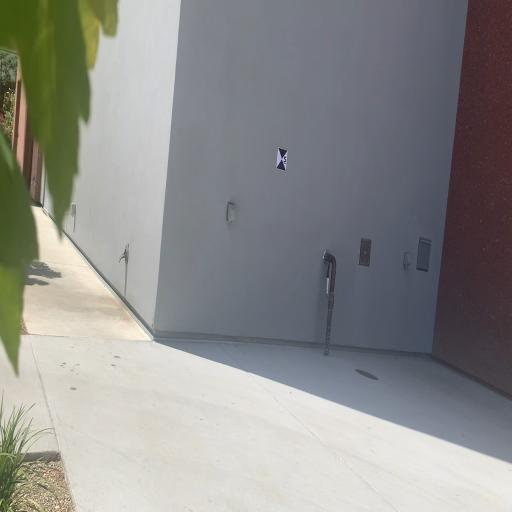target5: (276, 146, 288, 172)
